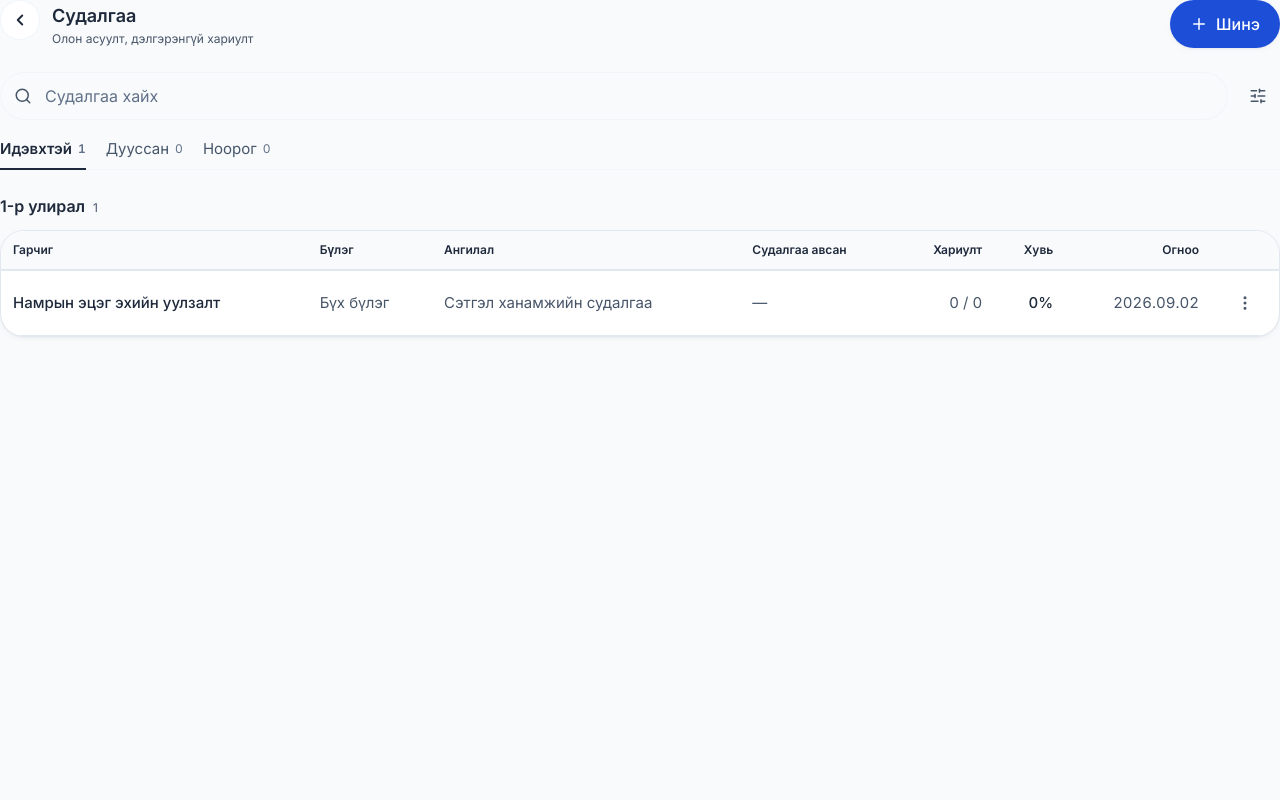
a survey card's menu › names who has not answered, before who has
Click the button named "Намрын эцэг эхийн уулзалт үйлдэл" at [1245, 303], box [1223,281,1267,325]
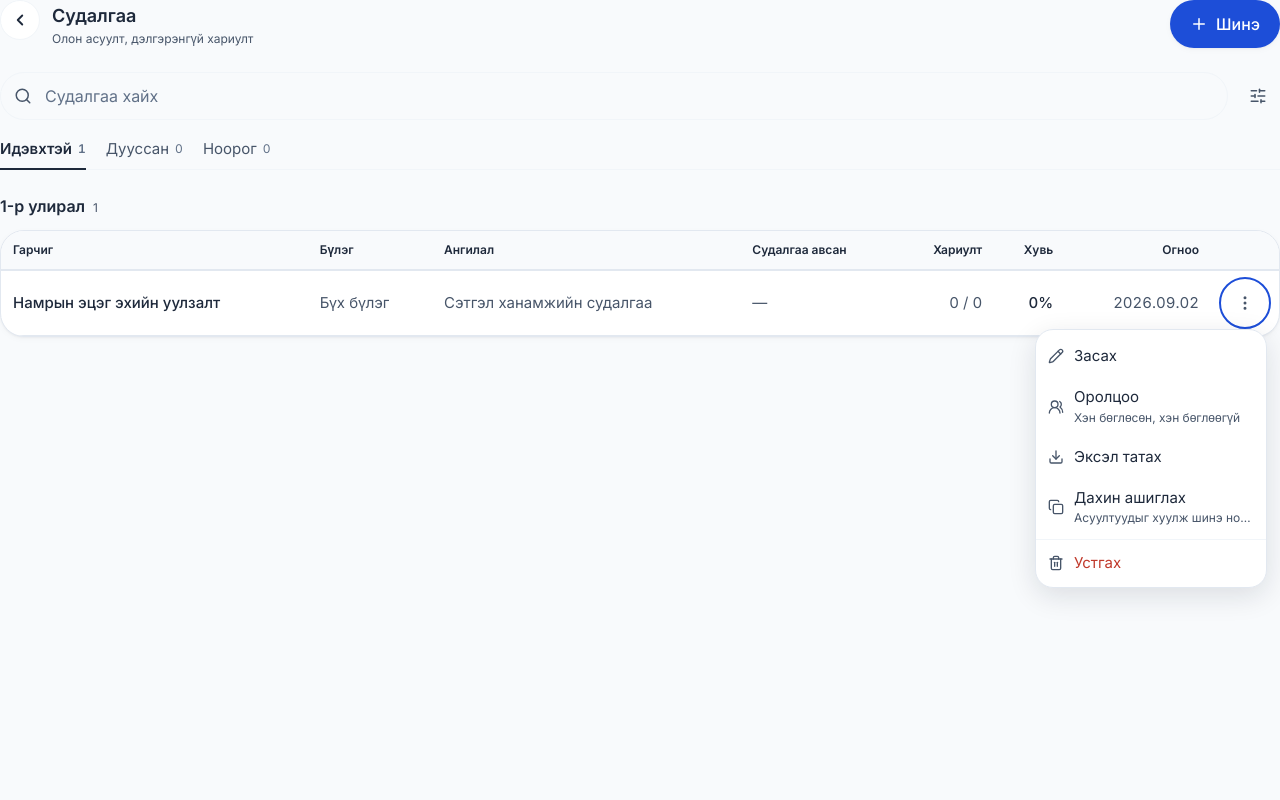
Click the menu item "Оролцоо Хэн бөглөсөн, хэн бөглөөгүй" at [1151, 407], box [1036,378,1266,435]
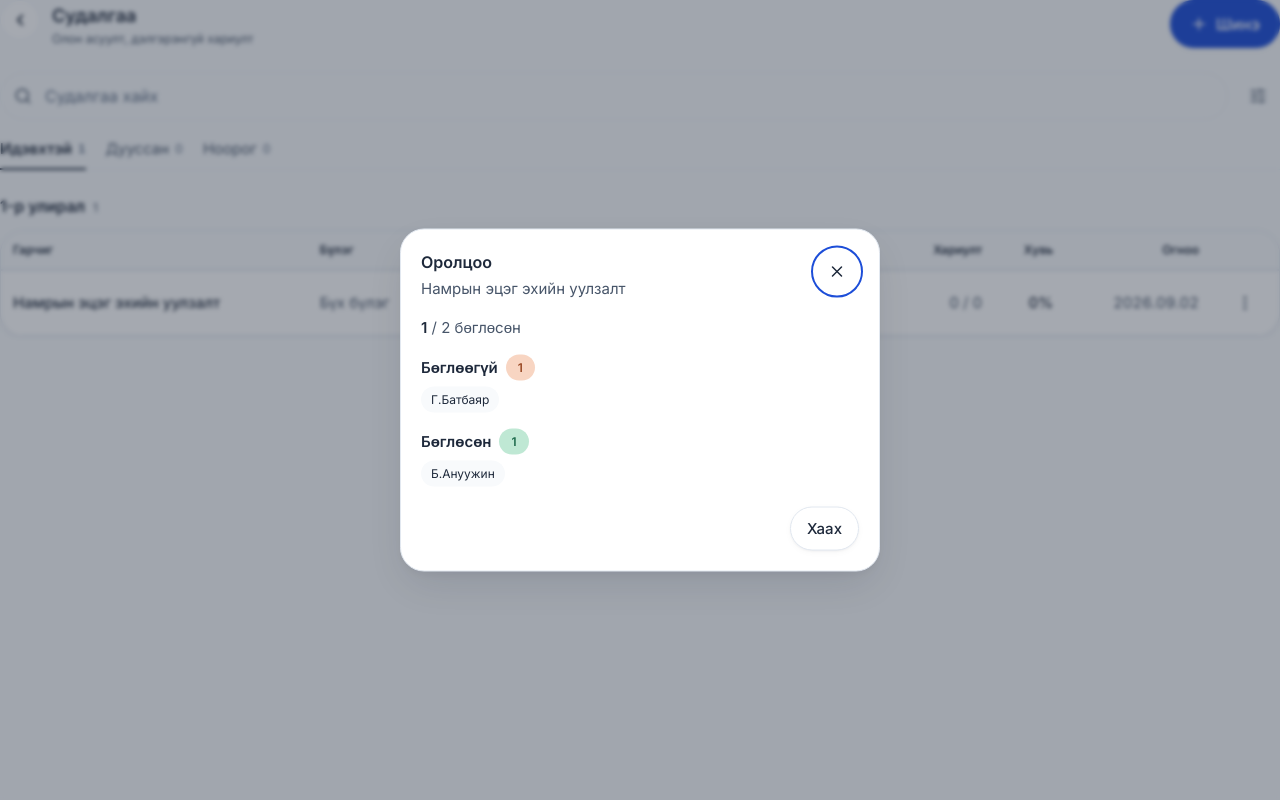
Result: the list item "Г.Батбаяр" is shown at [421,386,499,412]
Result: the list item "Б.Ануужин" is shown at [421,460,505,486]
